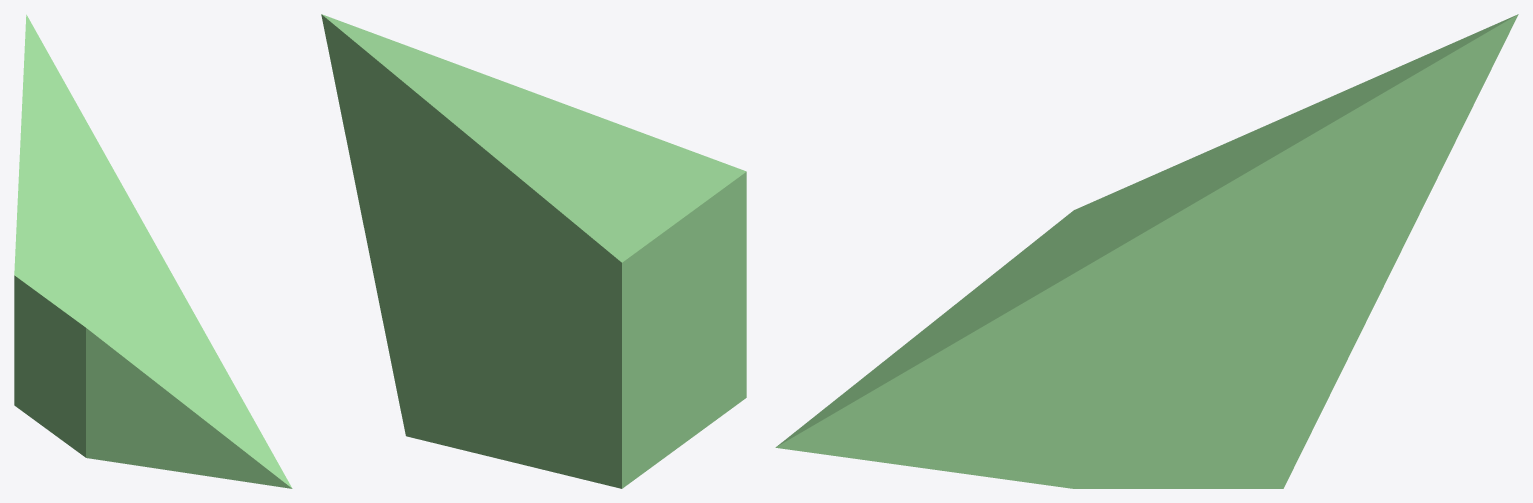
The model's file is icone7.glb.
3 renders of one model, left to right at view 1: azimuth 30°, elevation 25°; view 2: azimuth 150°, elevation 25°; view 3: azimuth 270°, elevation 25°, orthographic. The views are drawn at different scales.
Visible parts, largest first — view 1: Cube; view 2: Cube; view 3: Cube.
Part boxes in pixels (x1,y1,x2,y2): Cube: (14,14,292,488); Cube: (321,14,746,488); Cube: (775,14,1518,488).
Size of the model in its own units: 1.43 by 3.4 by 5.07.
